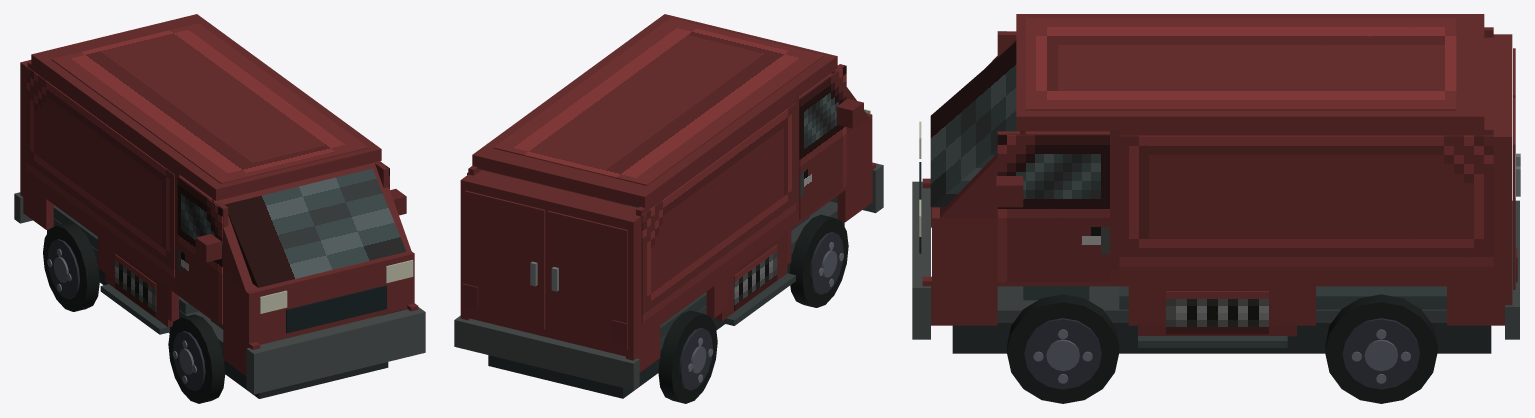
File: CMU3DRMCPropVehicleBoxVanRed.glb
The picture shows the model from 3 angles, left to right: view 1: azimuth 30°, elevation 25°; view 2: azimuth 150°, elevation 25°; view 3: azimuth 270°, elevation 25°; orthographic projection. The views are drawn at different scales.
Visible parts, largest first — view 1: original roof panel, original cargo side -1, continuous sloping windshield, roof slab, front bumper, front cab lower, original cab door -1, front glazing surround, tire 2 -1, tire 1 -1, upper wheel rail -1, front grille (+16 smaller); view 2: original roof panel, original cargo side -1, roof slab, rear door panel 1, rear door panel -1, rear closure, rear bumper, original cab door -1, tire 2 -1, upper wheel rail -1, tire 1 -1, ladder chassis (+14 smaller); view 3: original cargo side 1, original roof panel, original cab door 1, roof slab, continuous sloping windshield, upper wheel rail 1, rear closure, ladder chassis, tire 2 1, tire 1 1, cargo side shell 1, lower skirt 1 1 (+20 smaller).
Boxes of the visible parts, x1,y1,x2,y2 form: original roof panel: (51, 23, 368, 184); original cargo side -1: (26, 67, 174, 277); continuous sloping windshield: (225, 168, 406, 287); roof slab: (31, 14, 381, 200); front bumper: (246, 307, 425, 394); front cab lower: (217, 251, 414, 346); original cab door -1: (177, 177, 222, 324); front glazing surround: (212, 161, 411, 297); tire 2 -1: (43, 222, 99, 311); tire 1 -1: (168, 314, 225, 403); upper wheel rail -1: (24, 170, 256, 346); front grille: (286, 285, 386, 333); original roof panel: (493, 18, 823, 185); original cargo side -1: (641, 103, 796, 322); roof slab: (472, 14, 837, 208); rear door panel 1: (464, 190, 545, 329); rear door panel -1: (547, 210, 627, 350); rear closure: (460, 170, 648, 358); rear bumper: (454, 315, 639, 390); original cab door -1: (799, 65, 846, 219); tire 2 -1: (658, 310, 717, 403); upper wheel rail -1: (637, 157, 872, 341); tire 1 -1: (789, 214, 848, 307); ladder chassis: (488, 221, 844, 398); original cargo side 1: (1119, 135, 1493, 266); original roof panel: (1025, 18, 1456, 110); original cab door 1: (997, 135, 1109, 281); roof slab: (1016, 14, 1484, 131); continuous sloping windshield: (930, 42, 1016, 207); upper wheel rail 1: (932, 270, 1502, 286); rear closure: (1475, 34, 1512, 302); ladder chassis: (952, 323, 1491, 353); tire 2 1: (1325, 294, 1437, 403); tire 1 1: (1007, 294, 1119, 403); cargo side shell 1: (1119, 126, 1493, 275); lower skirt 1 1: (1128, 281, 1315, 325).
Bounding box in the file's own units: 0.98 × 1.05 × 2.03.
25 materials, 5 textured.
